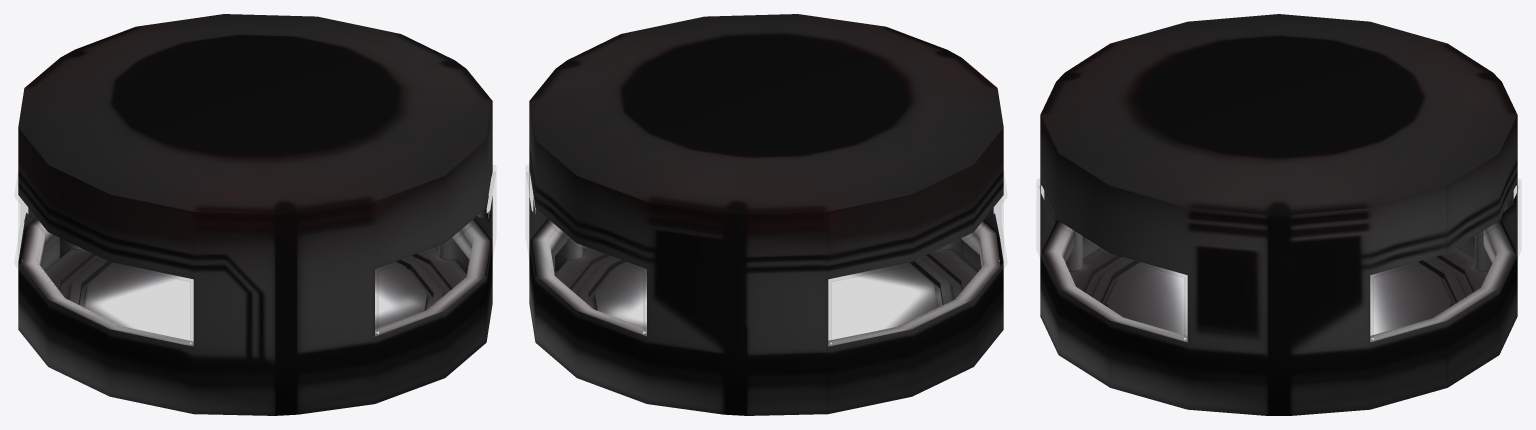
Rendered from environment.glb.
3 renders of one model, left to right at view 1: azimuth 30°, elevation 25°; view 2: azimuth 150°, elevation 25°; view 3: azimuth 270°, elevation 25°, orthographic.
Parts seen in each view (by area): view 1: Room.005; view 2: Room.005; view 3: Room.005.
Part boxes in pixels (<box>): Room.005: <box>18,14,495,415</box>; Room.005: <box>526,14,1003,415</box>; Room.005: <box>1038,14,1519,415</box>.
Bounding box in the file's own units: 10.79 × 5.46 × 10.94.
3 materials, 3 textured.
